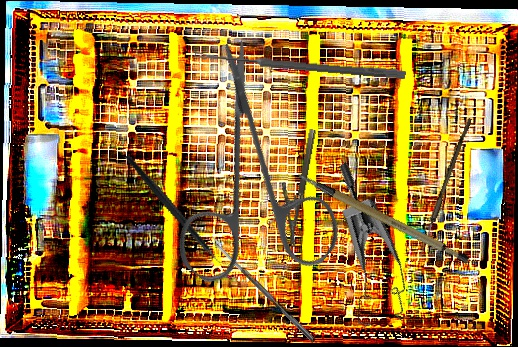Chopper: (123, 134, 232, 286)
Iris Scissors: (102, 34, 400, 332)
Needle Holder: (270, 125, 318, 248)
Scalpel Handle: (294, 146, 473, 286)
Speculum: (279, 160, 439, 342)
Surgical Spoon: (208, 234, 317, 344), (417, 116, 472, 259), (193, 50, 407, 80)
